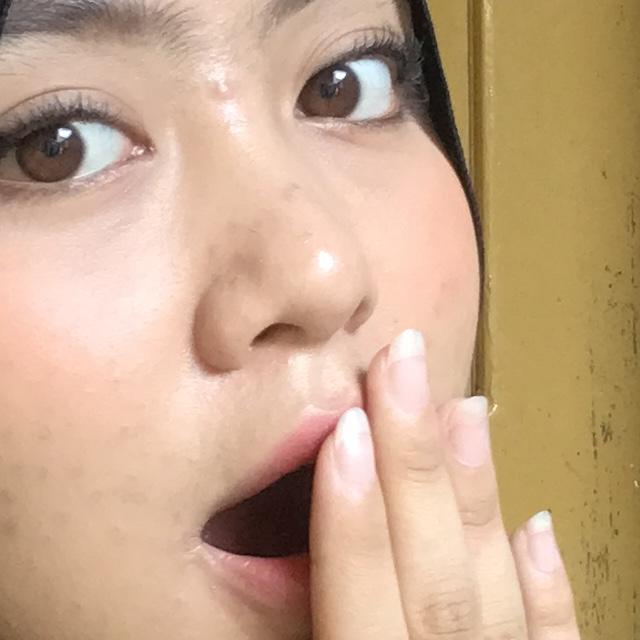ngantuk: (60, 346, 640, 640)
